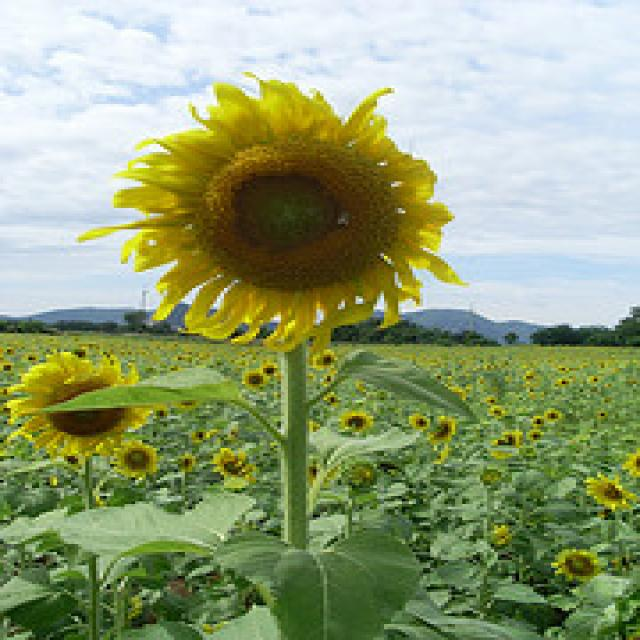sunflower: (70, 70, 468, 350), (0, 342, 156, 460), (107, 437, 167, 488), (550, 543, 614, 588), (583, 474, 640, 514), (213, 449, 256, 484), (492, 429, 528, 456), (428, 413, 454, 443), (342, 409, 374, 431), (242, 369, 263, 388), (320, 351, 338, 369)
